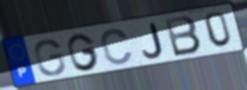0: (203, 10, 233, 49)
B: (162, 14, 203, 59)
C: (99, 27, 135, 66)
G: (66, 32, 101, 72), (33, 38, 67, 77)
J: (141, 22, 165, 59)
